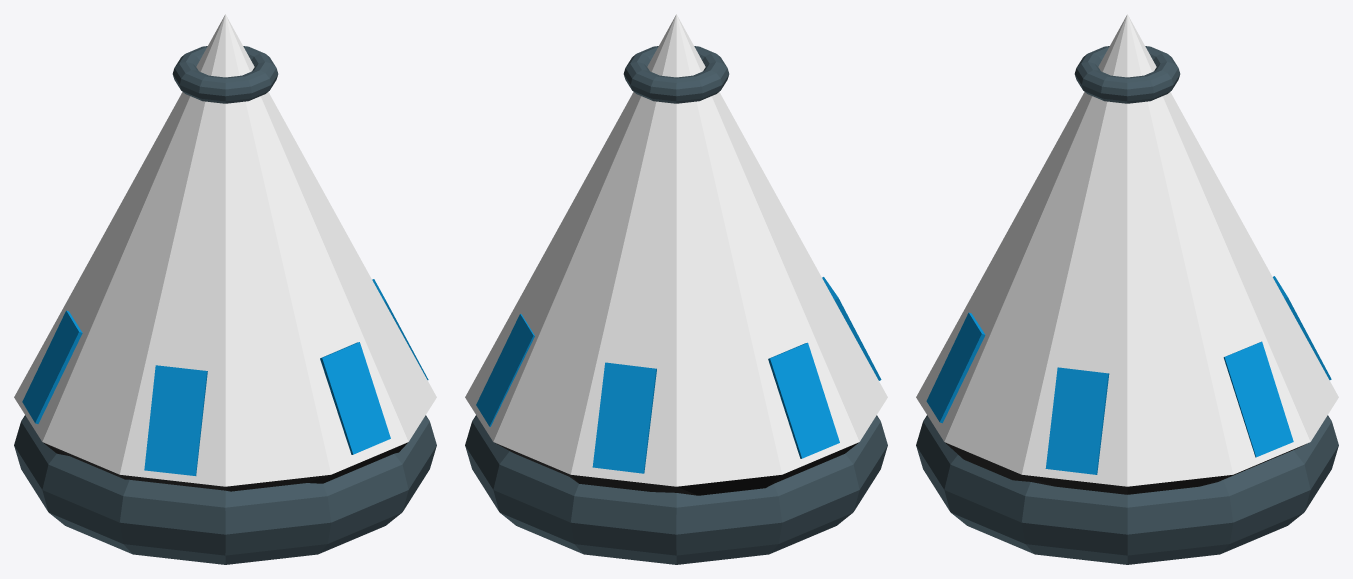
Rendered from Habitat.fbx.
3 renders of one model, left to right at view 1: azimuth 30°, elevation 25°; view 2: azimuth 150°, elevation 25°; view 3: azimuth 270°, elevation 25°, orthographic.
Parts seen in each view (by area): view 1: mesh_1793348775, mesh_1958518833, mesh_440838161, mesh_432963275, mesh_1013706185, mesh_1653305145, mesh_2112385611; view 2: mesh_1793348775, mesh_1958518833, mesh_1646740523, mesh_1653305145, mesh_1013706185, mesh_2112385611, mesh_960514920; view 3: mesh_1793348775, mesh_1958518833, mesh_1332687832, mesh_960514920, mesh_1013706185, mesh_432963275, mesh_2112385611.
Boxes of the visible parts, box(x1,y1,x2,y2) form: mesh_1793348775: box(14, 14, 436, 486); mesh_1958518833: box(14, 415, 436, 564); mesh_440838161: box(144, 365, 207, 475); mesh_432963275: box(320, 342, 390, 454); mesh_1013706185: box(172, 46, 278, 103); mesh_1653305145: box(22, 310, 82, 423); mesh_2112385611: box(43, 442, 408, 491); mesh_1793348775: box(465, 14, 887, 486); mesh_1958518833: box(465, 415, 887, 564); mesh_1646740523: box(592, 362, 656, 473); mesh_1653305145: box(768, 342, 839, 458); mesh_1013706185: box(623, 46, 729, 103); mesh_2112385611: box(494, 442, 858, 495); mesh_960514920: box(476, 314, 534, 426); mesh_1793348775: box(916, 14, 1338, 486); mesh_1958518833: box(916, 415, 1338, 564); mesh_1332687832: box(1045, 367, 1109, 474); mesh_960514920: box(1223, 341, 1293, 457); mesh_1013706185: box(1074, 46, 1180, 103); mesh_432963275: box(926, 312, 985, 423); mesh_2112385611: box(944, 442, 1306, 494).
Size of the model in its own units: 8 by 10 by 8.
